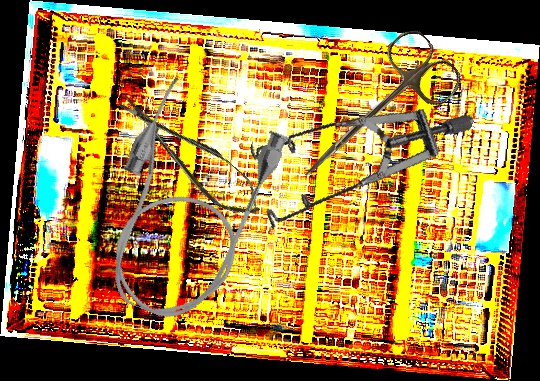Cannula: (77, 72, 294, 336)
Iris Scissors: (280, 23, 468, 207)
Micro Scissor: (111, 80, 270, 229)
Speculum: (230, 58, 475, 276)
